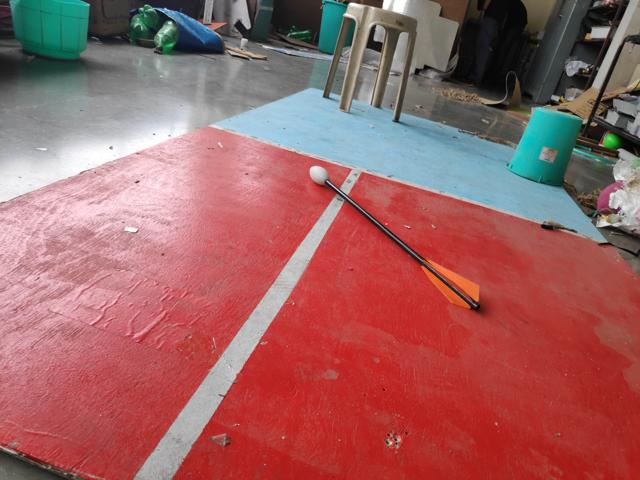Head: (308, 164, 331, 186)
Tail: (417, 254, 484, 313)
